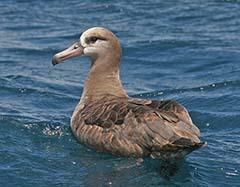001.Black_footed_Albatross: (52, 27, 206, 166)
